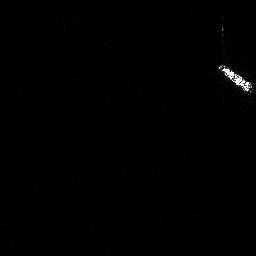ship: (214, 60, 255, 96)
